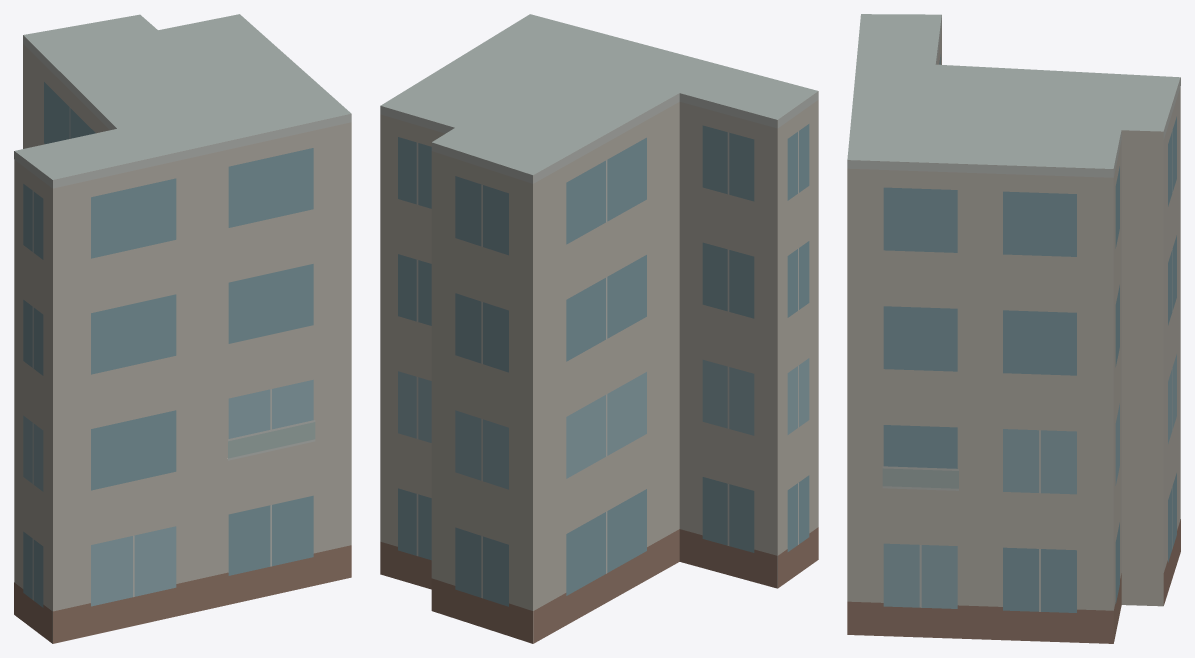
Rendered from survey-upis-32961910.glb.
The picture shows the model from 3 angles, left to right: view 1: azimuth 30°, elevation 25°; view 2: azimuth 150°, elevation 25°; view 3: azimuth 270°, elevation 25°; orthographic projection. The views are drawn at different scales.
Parts seen in each view (by area): view 1: survey-upis-32961910.tmp; view 2: survey-upis-32961910.tmp; view 3: survey-upis-32961910.tmp.
Part boxes in pixels (x1,y1,x2,y2): survey-upis-32961910.tmp: [14, 14, 351, 643]; survey-upis-32961910.tmp: [380, 14, 818, 643]; survey-upis-32961910.tmp: [847, 14, 1180, 643].
Size of the model in its own units: 9.29 by 13.25 by 8.44.
